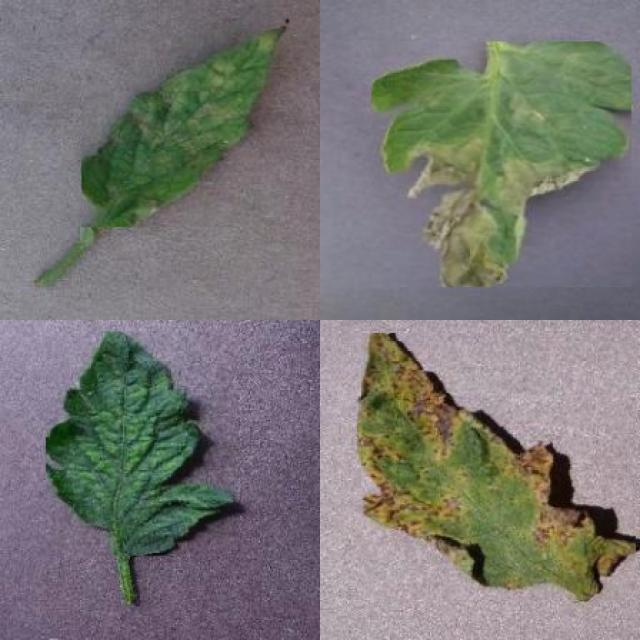Late Blight: (372, 42, 632, 288)
Leaf Mold: (82, 29, 284, 227)
Mosaic Virus: (46, 331, 236, 556)
Septoria: (357, 334, 636, 602)
